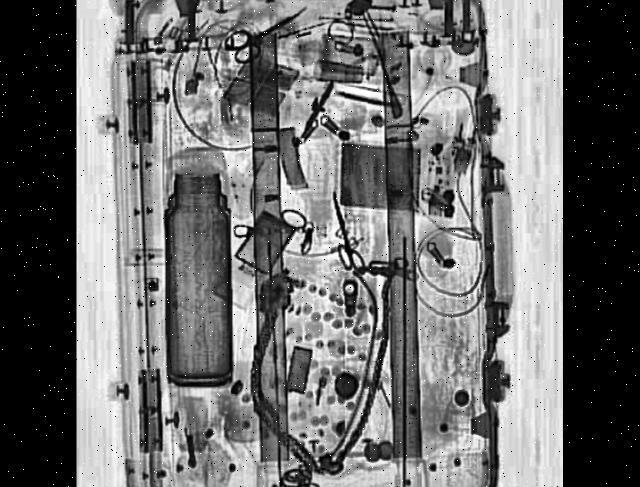Scissors: (220, 0, 311, 78), (322, 187, 364, 282)
